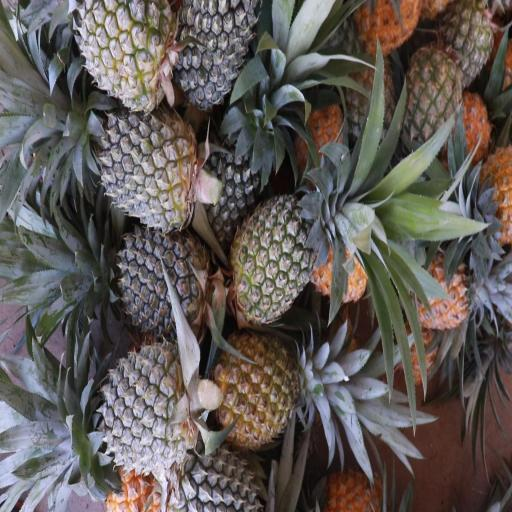------------------------------: (233, 196, 332, 320), (78, 0, 174, 110), (216, 330, 308, 444), (400, 46, 464, 150)
Pineapple - v8 v1: (356, 0, 422, 63)
